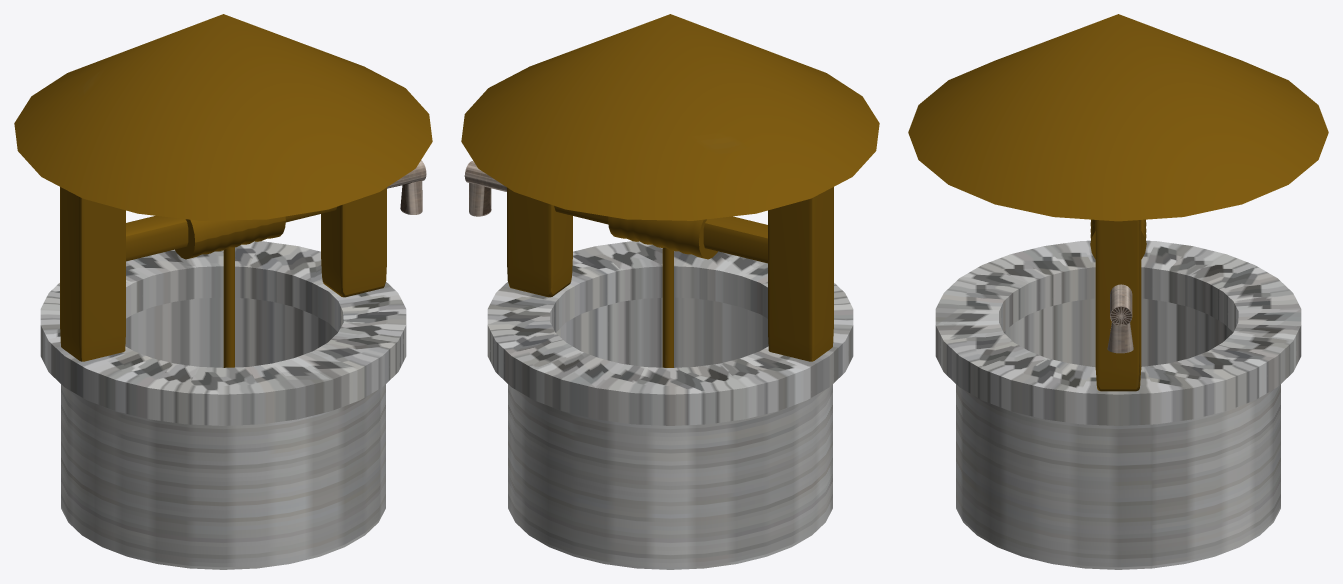
File: mack_Well.fbx
3 views of the same model, side by side, from view 1: azimuth 30°, elevation 25°; view 2: azimuth 150°, elevation 25°; view 3: azimuth 270°, elevation 25° (orthographic).
Visible parts, largest first — view 1: polySurface10, polySurface4, polySurface9, polySurface2, polySurface3, polySurface1, polySurface5, polySurface7; view 2: polySurface10, polySurface4, polySurface9, polySurface2, polySurface3, polySurface1, polySurface5, polySurface7, polySurface8; view 3: polySurface10, polySurface4, polySurface2, polySurface8, polySurface7.
Part boxes in pixels (bbox=[...]): polySurface10: bbox=[40, 241, 406, 569]; polySurface4: bbox=[14, 14, 432, 220]; polySurface9: bbox=[60, 187, 125, 361]; polySurface2: bbox=[321, 187, 386, 297]; polySurface3: bbox=[175, 216, 285, 259]; polySurface1: bbox=[126, 207, 336, 261]; polySurface5: bbox=[223, 247, 234, 367]; polySurface7: bbox=[400, 180, 422, 214]; polySurface10: bbox=[487, 241, 853, 569]; polySurface4: bbox=[461, 14, 879, 220]; polySurface9: bbox=[768, 187, 833, 361]; polySurface2: bbox=[507, 187, 572, 297]; polySurface3: bbox=[608, 216, 717, 259]; polySurface1: bbox=[554, 206, 767, 263]; polySurface5: bbox=[662, 247, 673, 367]; polySurface7: bbox=[469, 182, 491, 216]; polySurface8: bbox=[464, 161, 506, 191]; polySurface10: bbox=[935, 240, 1301, 569]; polySurface4: bbox=[908, 14, 1328, 221]; polySurface2: bbox=[1095, 220, 1141, 391]; polySurface8: bbox=[1110, 284, 1132, 326]; polySurface7: bbox=[1107, 322, 1133, 353].
Bounding box in the file's own units: 13.59 × 16.6 × 13.
